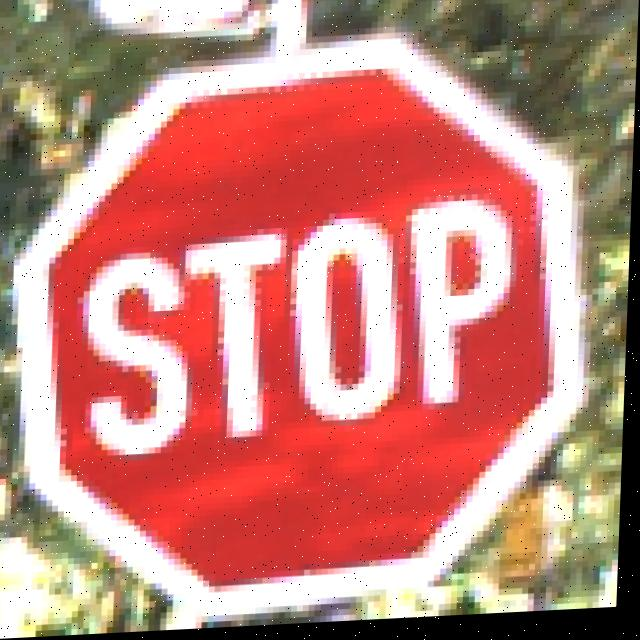stop: (12, 35, 572, 638)
